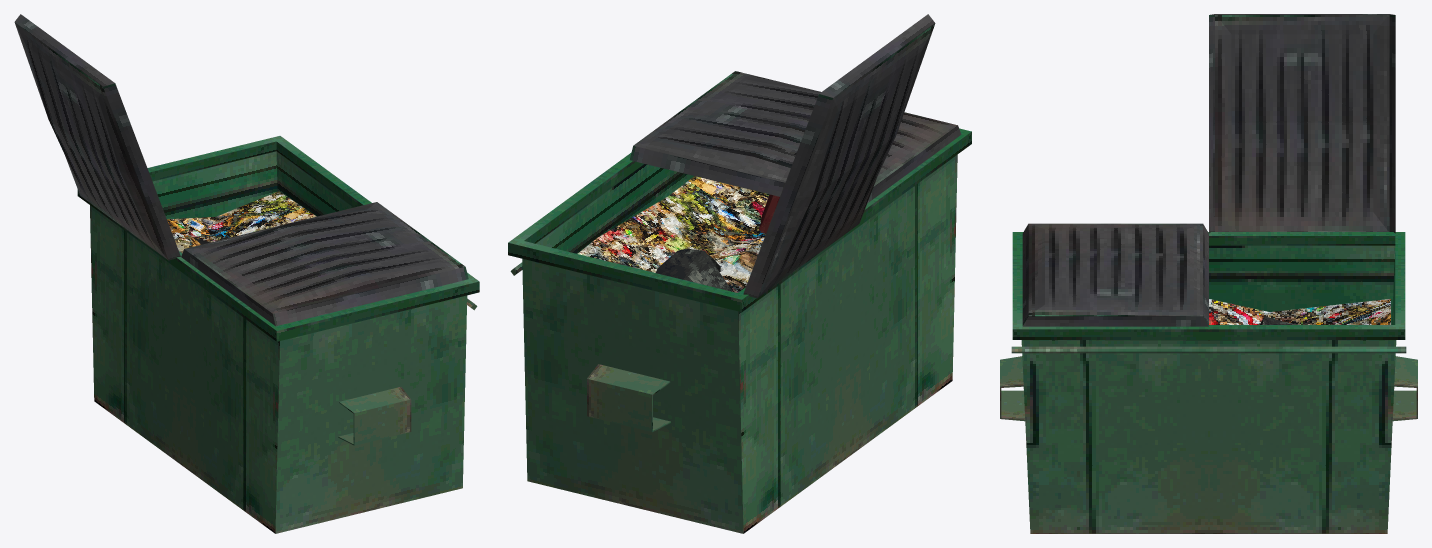
File: dumpster_full_lid_open.glb
3 views of the same model, side by side, from view 1: azimuth 30°, elevation 25°; view 2: azimuth 150°, elevation 25°; view 3: azimuth 270°, elevation 25° (orthographic). The views are drawn at different scales.
Visible parts, largest first — view 1: dumpster_full_lid_open; view 2: dumpster_full_lid_open; view 3: dumpster_full_lid_open.
Boxes of the visible parts, x1=… form: dumpster_full_lid_open: x1=14, y1=14, x2=479, y2=533; dumpster_full_lid_open: x1=508, y1=14, x2=971, y2=533; dumpster_full_lid_open: x1=1000, y1=14, x2=1417, y2=533.
Bounding box in the file's own units: 2.74 × 3.84 × 3.67.
3 materials, 3 textured.
